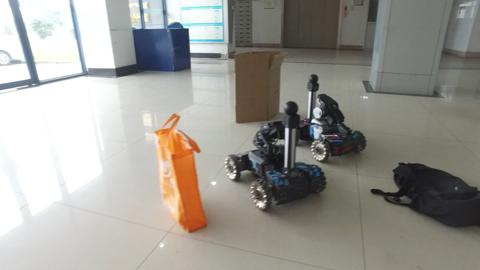bag: (383, 154, 475, 223), (154, 110, 205, 231)
box: (233, 46, 279, 123)
chariot: (223, 99, 326, 211), (296, 64, 366, 161)
